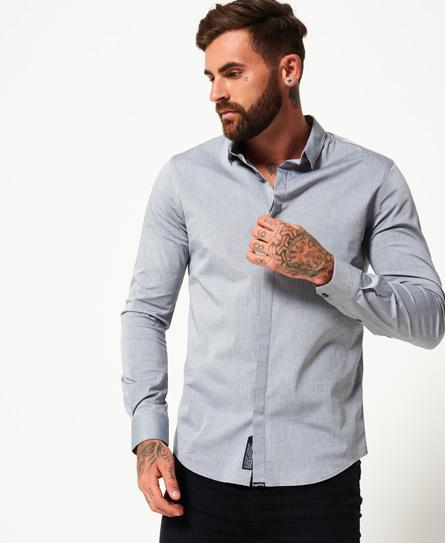teeshirt: (115, 109, 445, 496)
